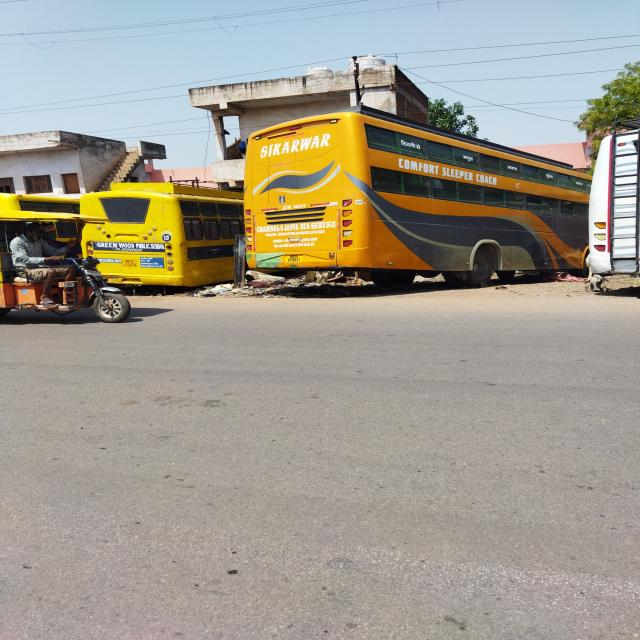Bus: (243, 106, 598, 286), (0, 182, 243, 286), (588, 119, 640, 275)
